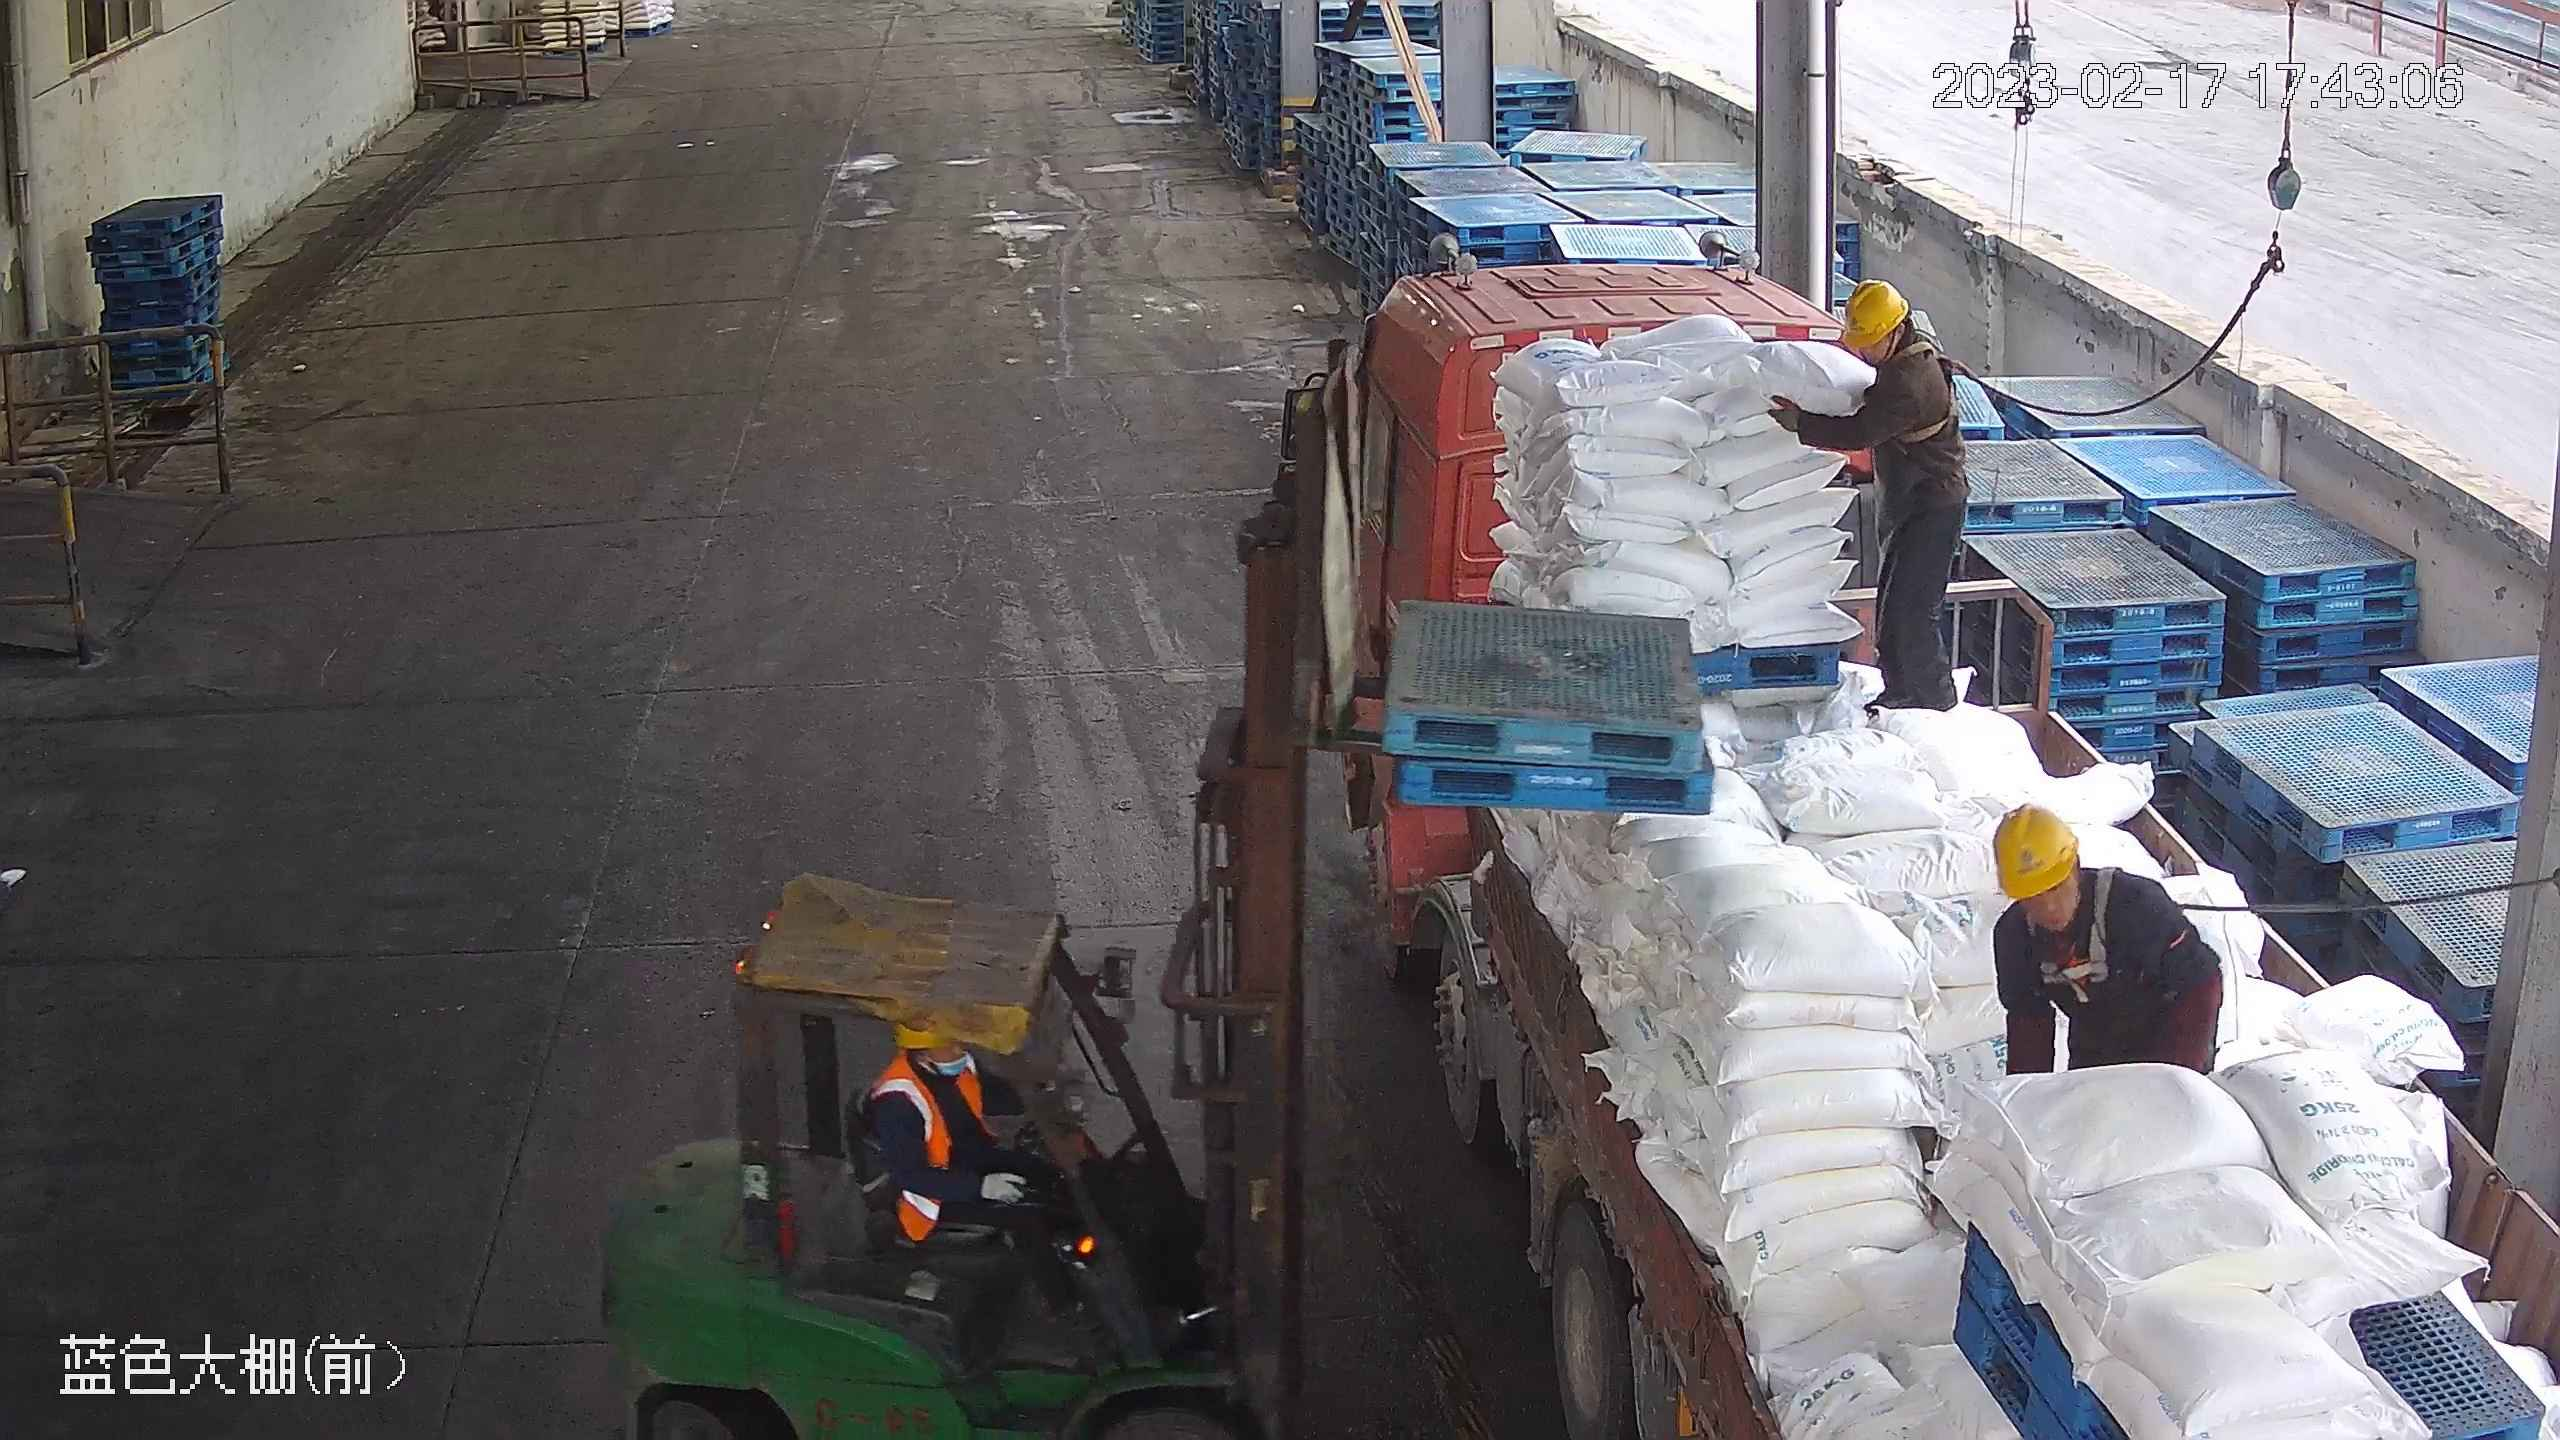belt: (1888, 332, 2000, 450), (2027, 866, 2122, 989)
head: (1995, 800, 2174, 979), (1817, 279, 1967, 430)
helmet: (1995, 805, 2078, 900), (1840, 278, 1915, 349)
people: (1766, 276, 1966, 710), (866, 1027, 1125, 1352), (1996, 803, 2229, 1078)
truck: (1259, 252, 2560, 1440)
